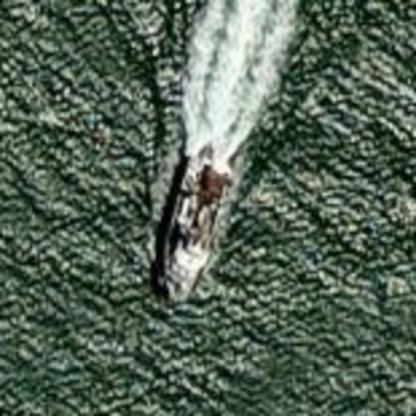ship: (146, 140, 258, 306)
